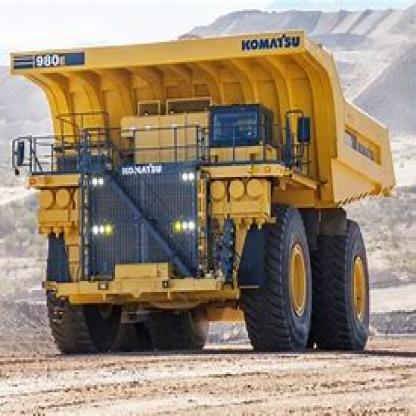dump_truck: (12, 26, 401, 350)
